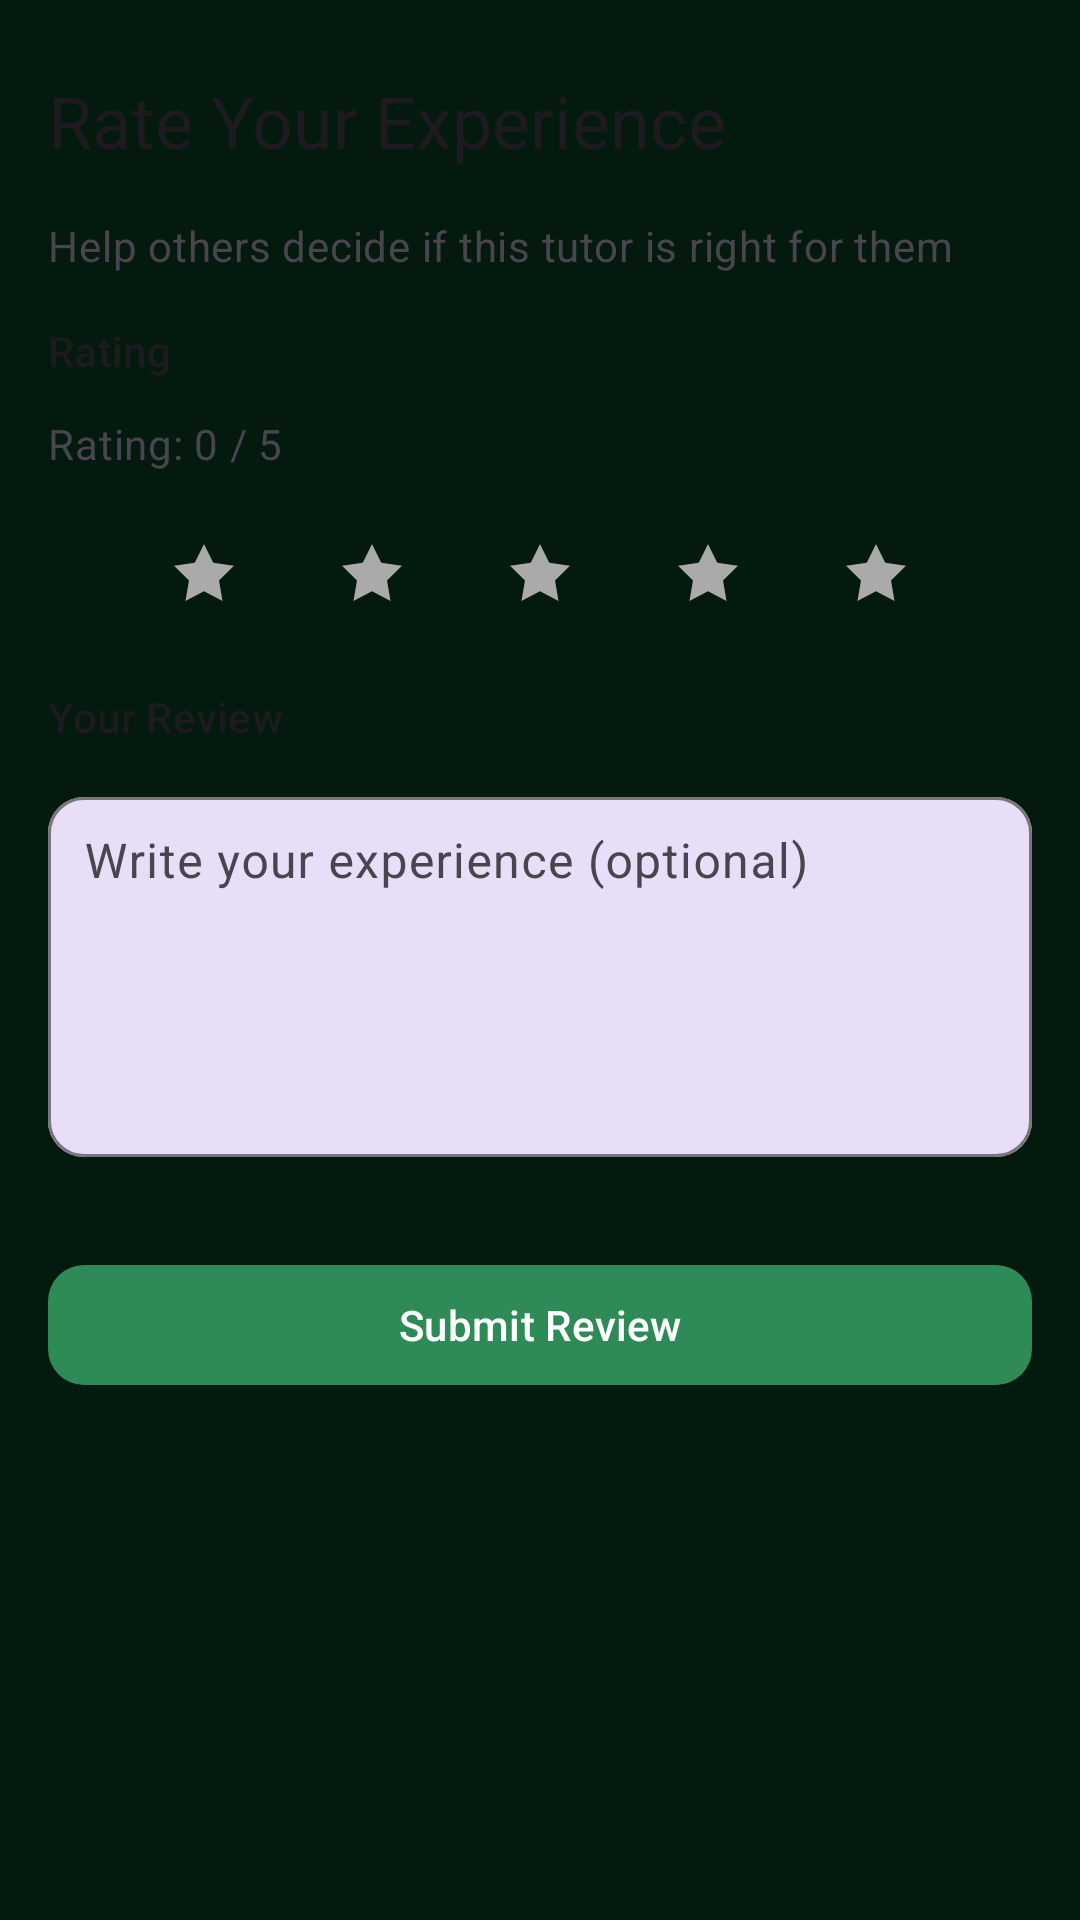

Locate icon controls on the screen. Image size 1080 x 1920, boxes as (x1,y1,x2,y2).
Rate 1 star: (174,544,234,601)
Rate 2 stars: (342,544,402,601)
Rate 3 stars: (510,544,570,601)
Rate 4 stars: (678,544,738,601)
Rate 5 stars: (846,544,906,601)
